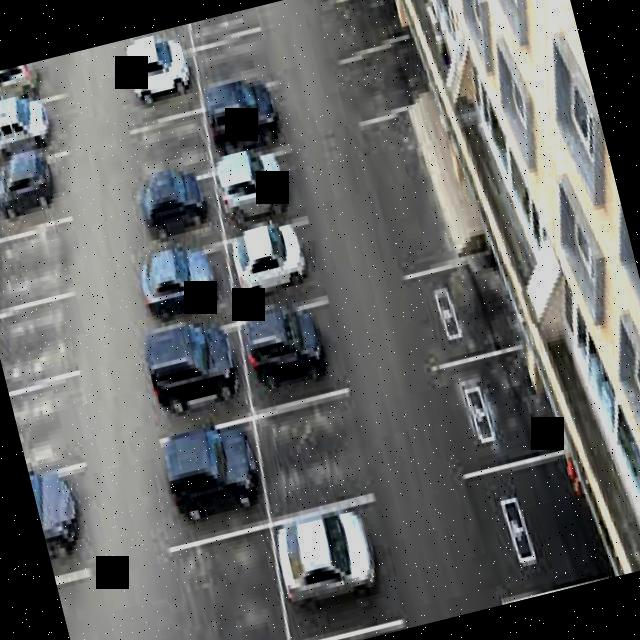car: (264, 504, 397, 640), (156, 416, 272, 527), (232, 297, 345, 400), (145, 322, 254, 424), (222, 220, 328, 306), (138, 250, 239, 334), (30, 466, 107, 576), (210, 147, 310, 230), (135, 170, 225, 256), (200, 82, 290, 152), (0, 150, 74, 225), (125, 43, 203, 106), (0, 99, 68, 163), (0, 59, 54, 112)
free: (458, 452, 606, 595), (249, 386, 377, 516), (428, 347, 558, 470), (164, 524, 292, 640), (400, 250, 522, 366), (7, 370, 96, 471), (0, 290, 82, 377), (342, 34, 428, 116), (130, 98, 220, 176), (0, 217, 80, 300), (191, 24, 271, 96), (324, 0, 413, 53)
